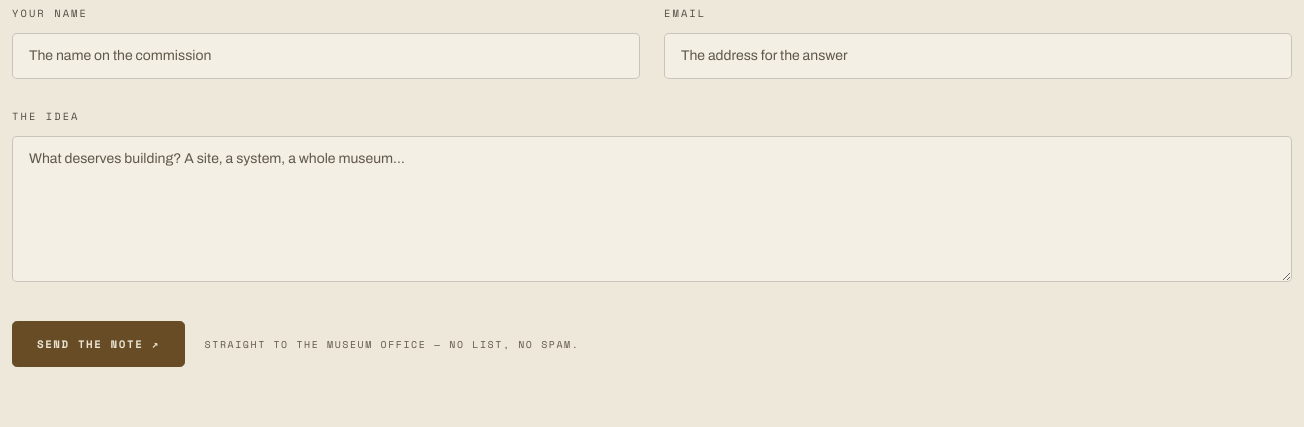
Test: ContactForm › refuses an empty note without touching the wire
The image size is (1304, 427).
Click the button "Send the note ↗".
click(98, 344)  # box [12,321,185,367]
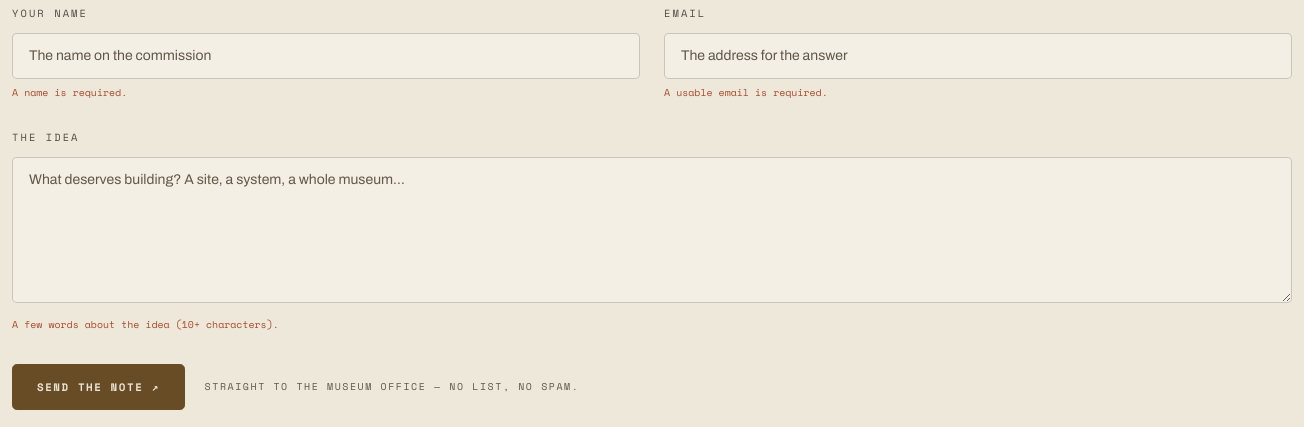
Result: the text "A name is required." is shown at [12,85,127,100]
